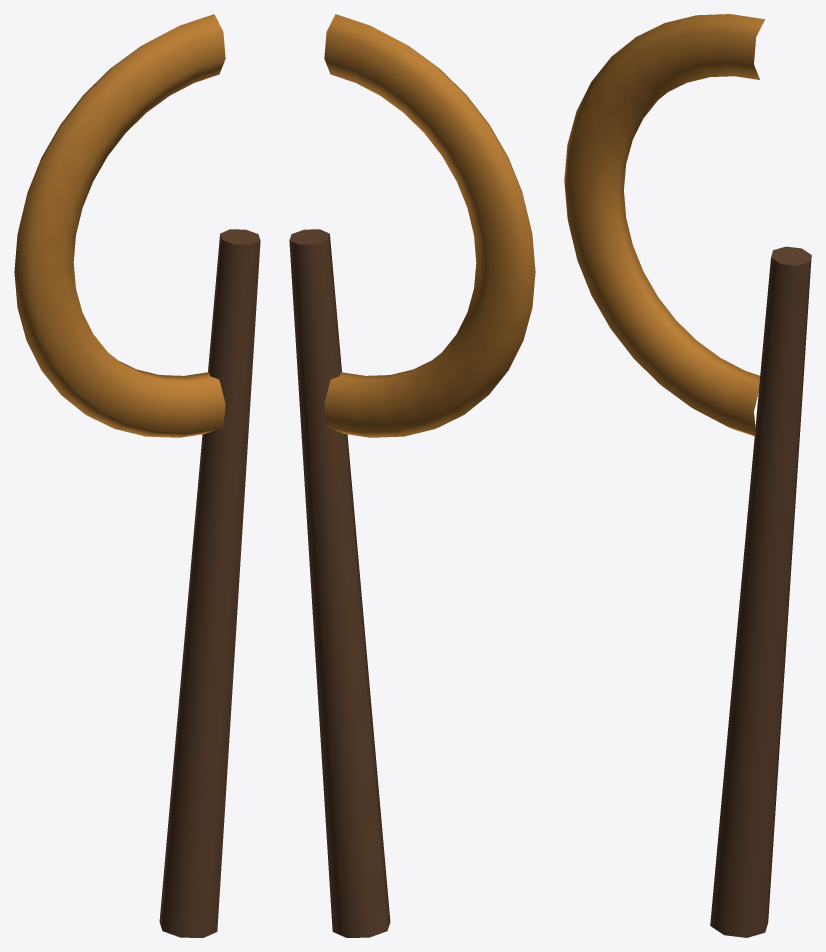
Rendered from wpn_m_08.glb.
3 renders of one model, left to right at view 1: azimuth 30°, elevation 25°; view 2: azimuth 150°, elevation 25°; view 3: azimuth 330°, elevation 25°, orthographic.
Visible parts, largest first — view 1: shaft, head; view 2: shaft, head; view 3: shaft, head.
Part boxes in pixels (<box>): shaft: <box>159,229,260,937</box>; head: <box>14,14,225,437</box>; shaft: <box>289,229,390,937</box>; head: <box>324,14,535,437</box>; shaft: <box>710,246,811,937</box>; head: <box>564,14,764,436</box>.
Bounding box in the file's own units: 0.4698 × 1.67 × 0.1.
